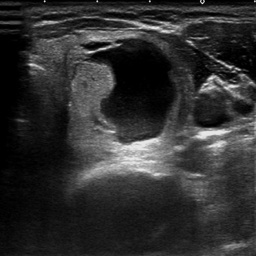mass: (70, 35, 175, 144)
